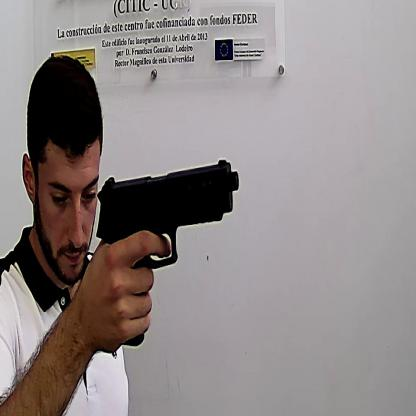gun: (95, 156, 239, 348)
